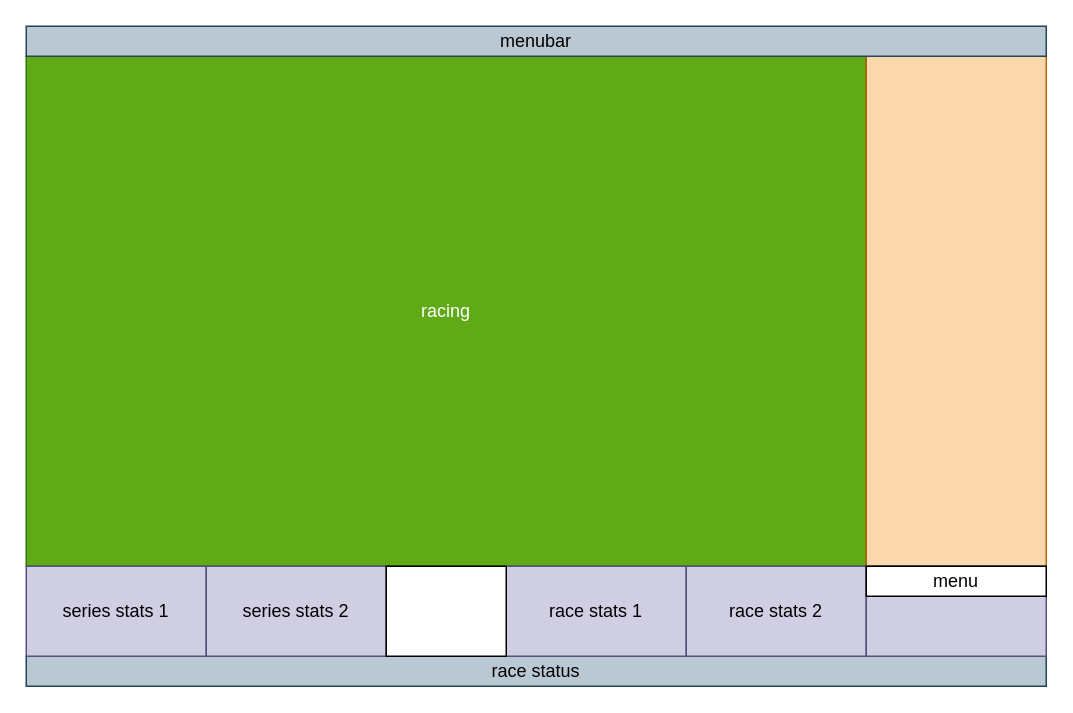
This 1073x713 diagram has some shape labels left out. Each missing label, with the box of its shape:
car stats: (865, 565, 1046, 656)
leaderboard: (865, 55, 1046, 566)
series logo: (385, 565, 506, 656)
